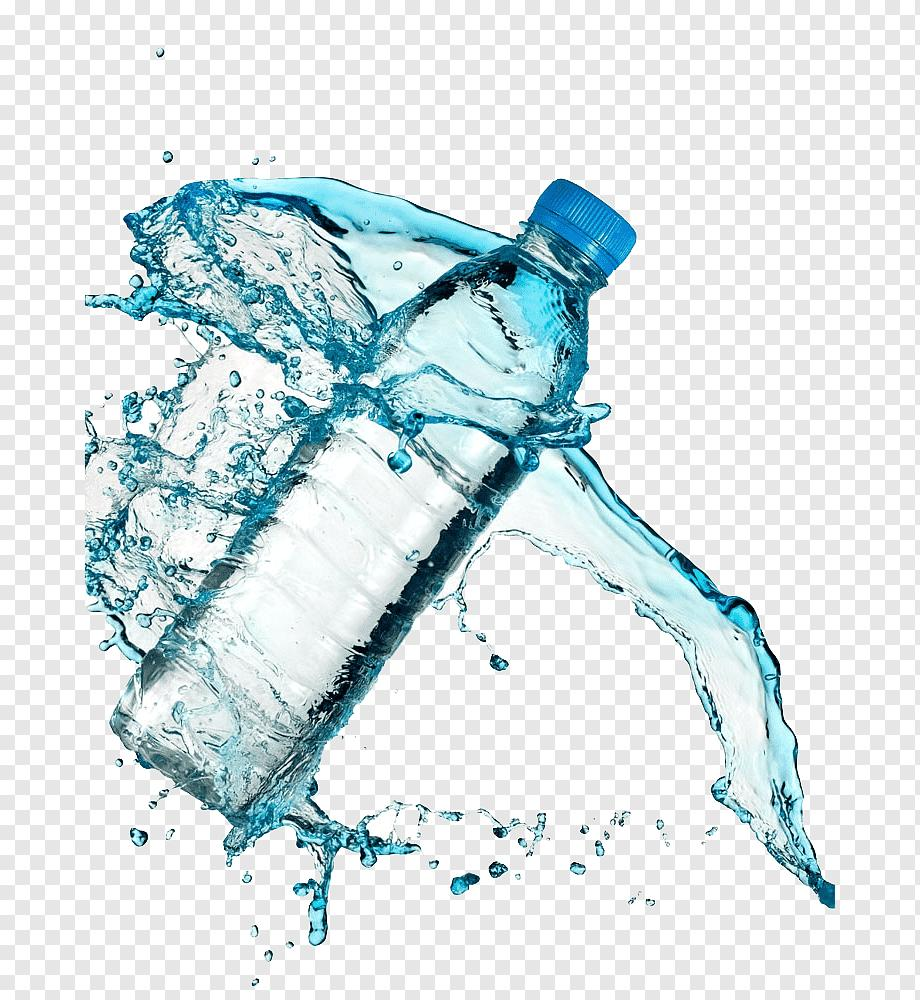bottle: (0, 219, 296, 811)
